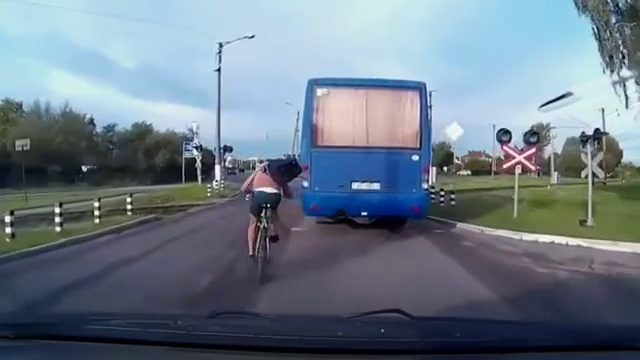cyclist_back: (239, 147, 284, 285)
